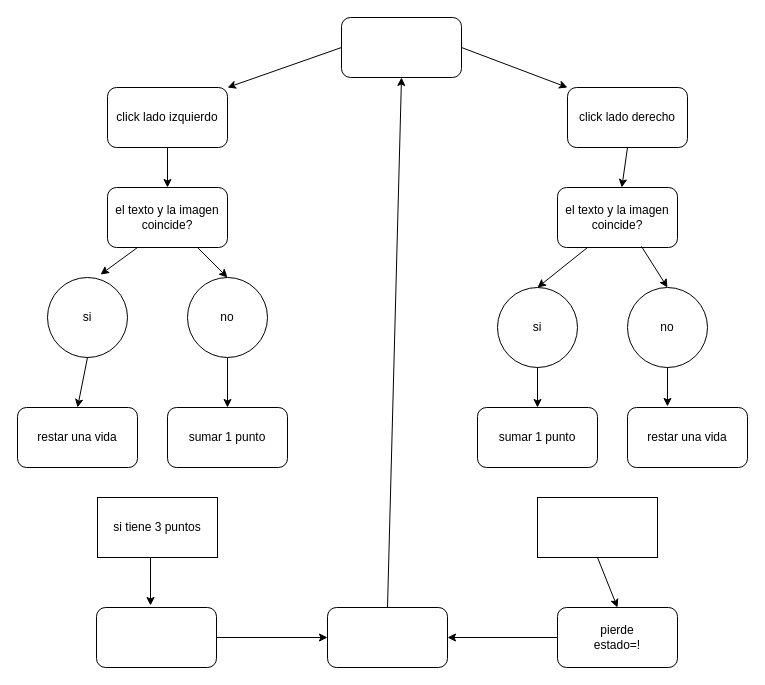
Image size: 765x685. Some labels were removed from this diagram. Here are the shapes that lost their labels. From the top down, the centre of each, then its label:
the point at 401,47: jugando estado=0
the point at 597,527: si perdio las 3 vidas
the point at 156,637: gana estado=1
the point at 387,637: apreta r para volver a empezar
